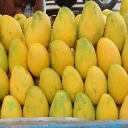mango: (25, 41, 49, 78)
